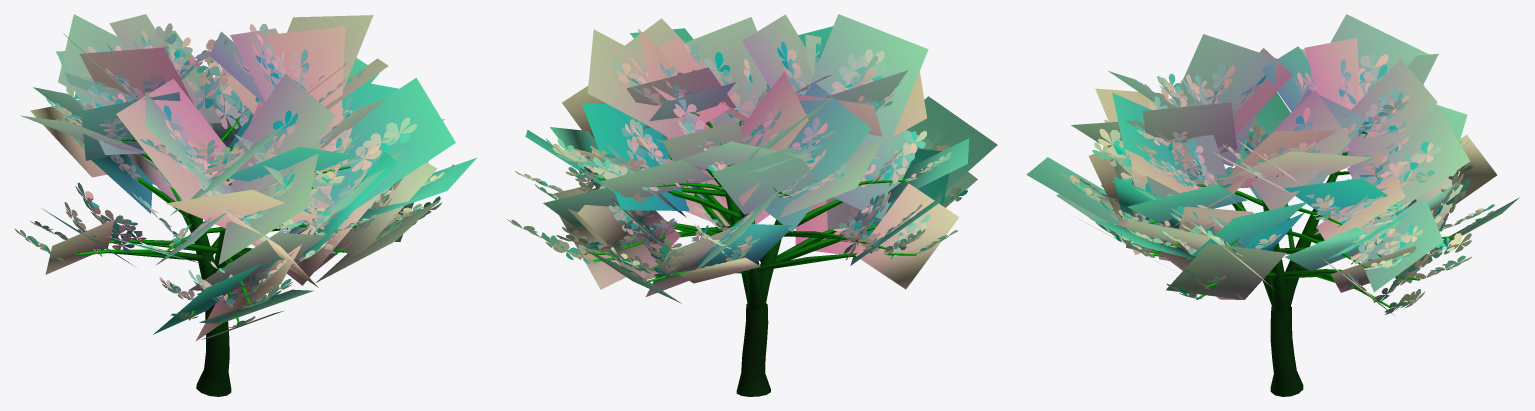
File: bang_1.glb
The picture shows the model from 3 angles, left to right: view 1: azimuth 30°, elevation 25°; view 2: azimuth 150°, elevation 25°; view 3: azimuth 270°, elevation 25°; orthographic projection. The views are drawn at different scales.
Parts seen in each view (by area): view 1: mid, near; view 2: mid, near; view 3: mid, near.
Part boxes in pixels (x1=…): mid: x1=20, y1=14, x2=476, y2=341; near: x1=15, y1=23, x2=453, y2=396; mid: x1=525, y1=14, x2=997, y2=310; near: x1=507, y1=41, x2=967, y2=396; mid: x1=1026, y1=14, x2=1519, y2=315; near: x1=1060, y1=54, x2=1495, y2=396.
Bounding box in the file's own units: 13.37 × 10.71 × 14.68.
